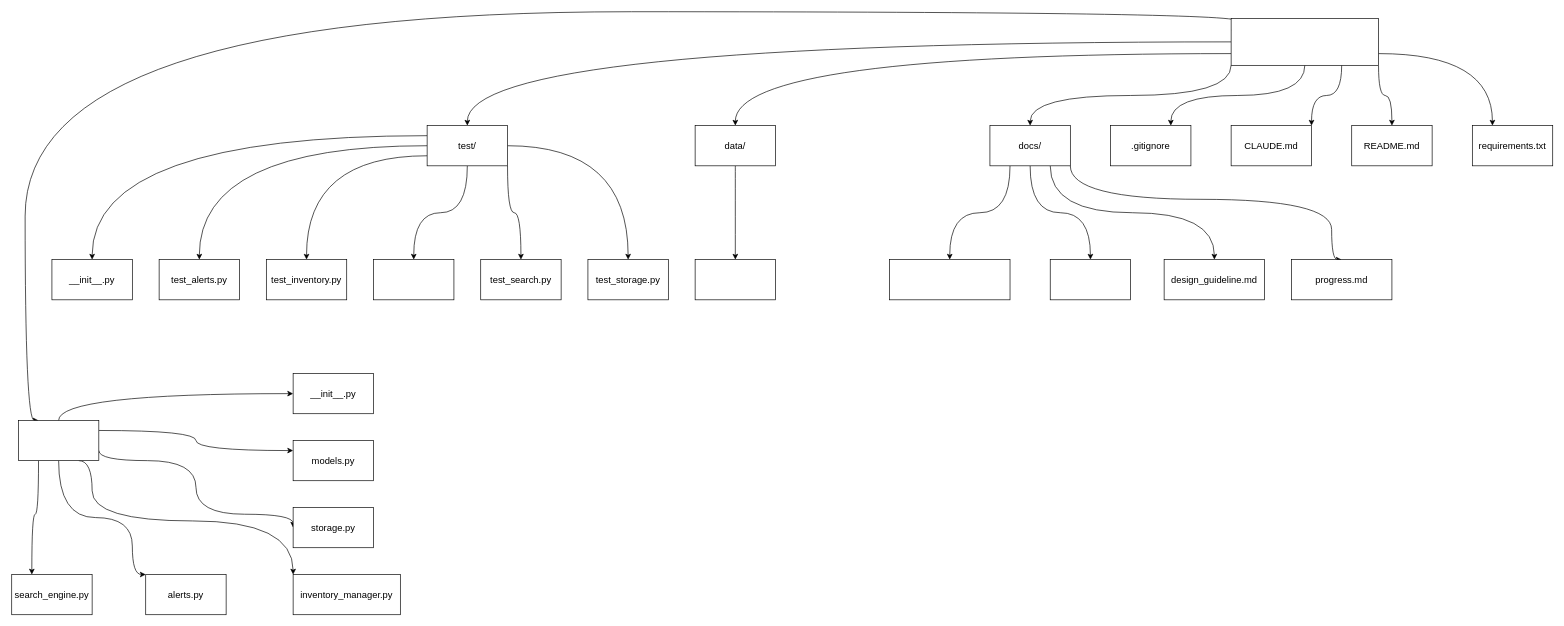
Image size: 1564x626. Some labels were removed from this diagram. Each missing label, with the centre of its shape:
".gitkeep" goes at pixel 735 279.
"classDiagram.drawio.png" goes at pixel 949 279.
"classflow.md" goes at pixel 1090 279.
"Pharmacy Management System" goes at pixel 1304 41.
"src/" goes at pixel 58 440.
"test_models.py" goes at pixel 413 279.
